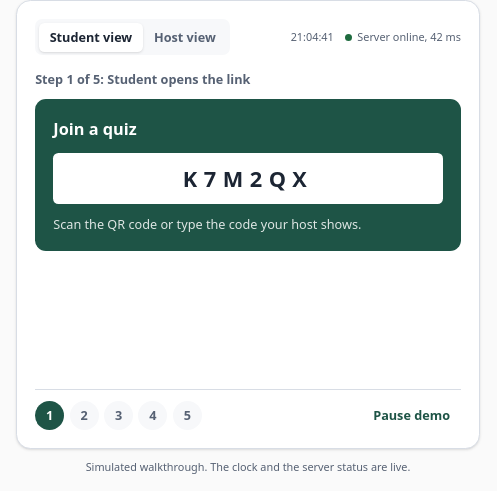
Test case: LiveDemo flow › shows the host the leaderboard with the visitor in it at the end
The width and height of the screenshot is (497, 491).
Click the tab "Host view": {"x": 185, "y": 37} [143, 23, 227, 52]
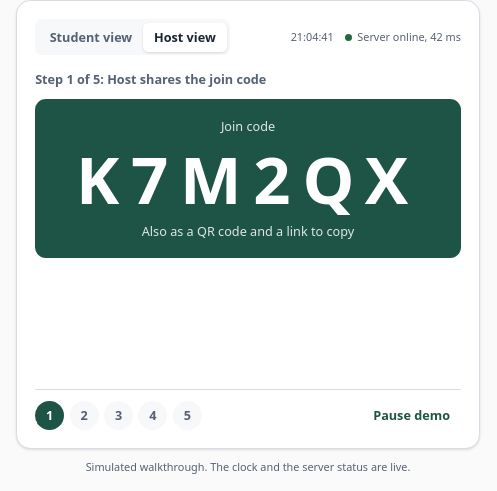
Click the button named "step 5": {"x": 187, "y": 415} [173, 401, 202, 430]
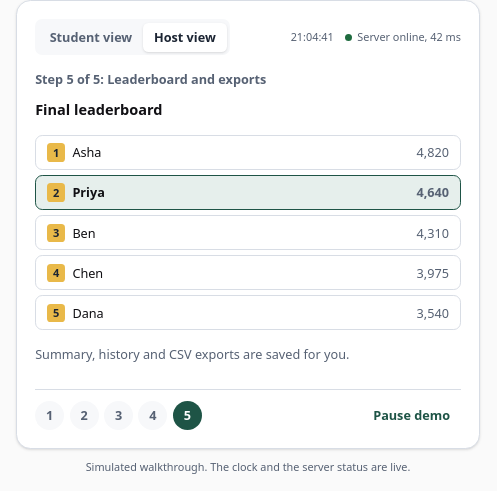
expect the panel shows "Priya": met, box [72, 183, 105, 201]
